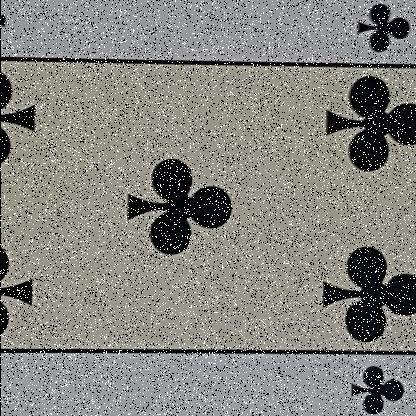5c: (339, 0, 415, 73), (324, 357, 415, 416)
